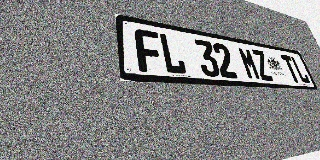2: (212, 42, 238, 79)
3: (194, 39, 221, 77)
F: (134, 28, 165, 73)
L: (158, 32, 188, 75), (290, 56, 311, 84)
M: (237, 47, 262, 80)
T: (280, 54, 302, 83)
Z: (251, 49, 274, 81)
